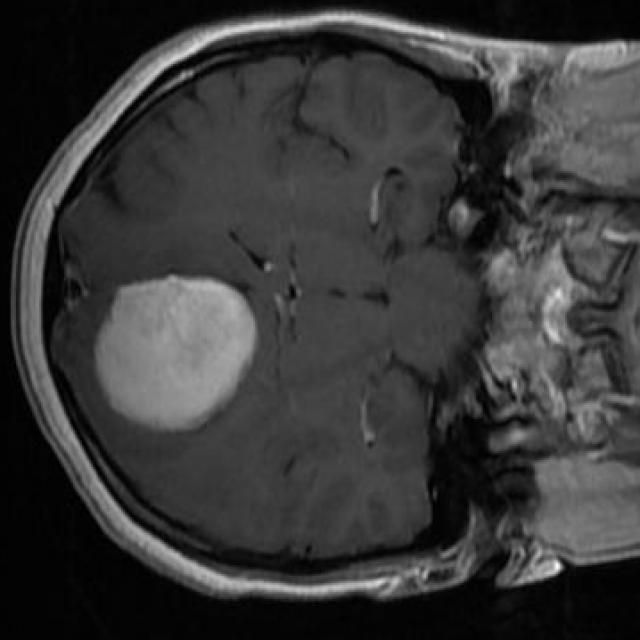glioma: (94, 278, 260, 433)
